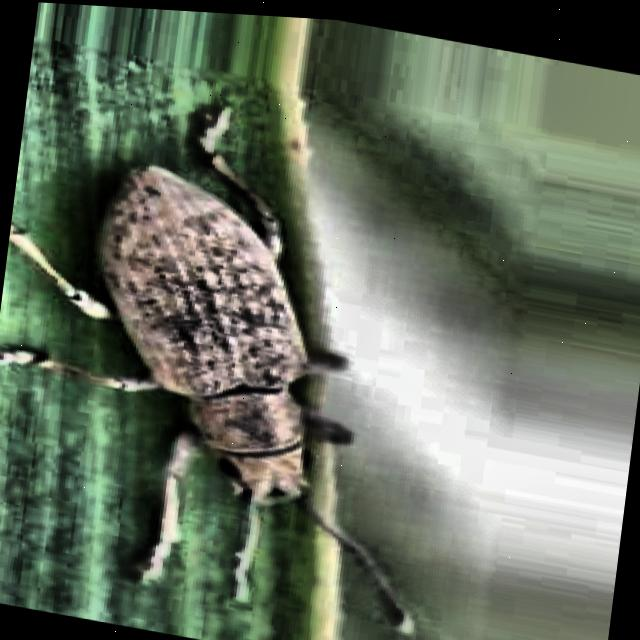Stink bug: (46, 139, 435, 561)
